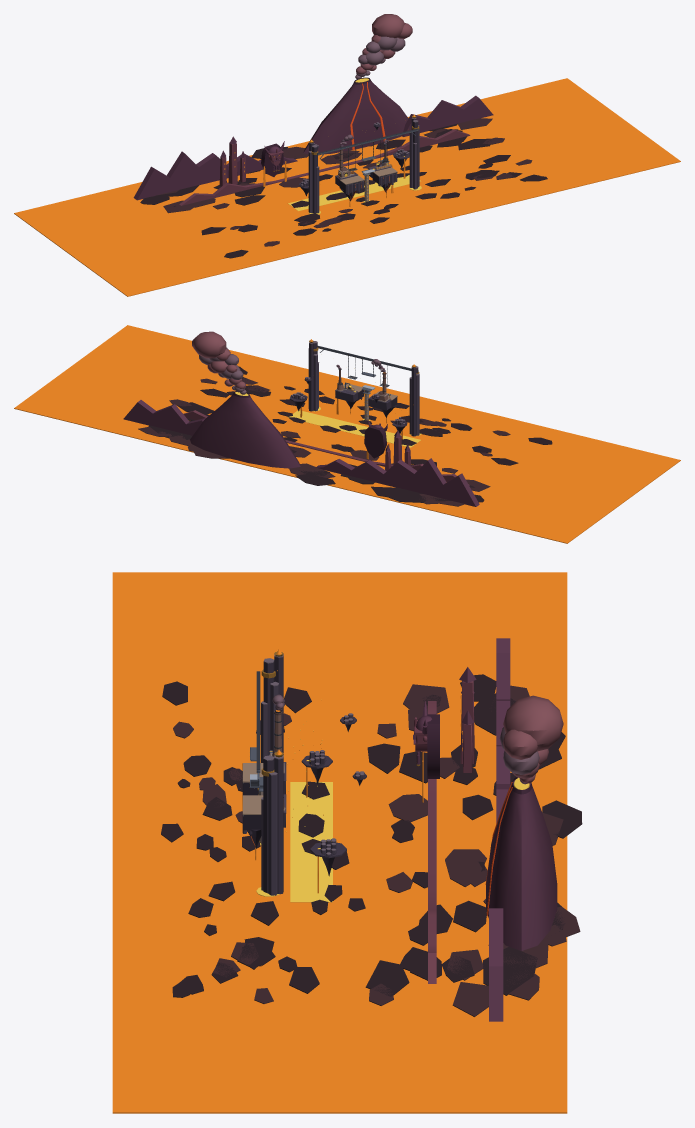
File: VolcanicForge.fbx
3 views of the same model, one above another, from view 1: azimuth 30°, elevation 25°; view 2: azimuth 150°, elevation 25°; view 3: azimuth 270°, elevation 25° (orthographic). The views are drawn at different scales.
Visible parts, largest first — view 1: GlowSea, SceneryFar, SceneryNear, Stage, GlowFar; view 2: GlowSea, SceneryFar, SceneryNear, Stage; view 3: GlowSea, SceneryFar, SceneryNear, Stage.
Boxes of the visible parts, x1,y1,x2,y2 form: GlowSea: (14, 78, 680, 296); SceneryFar: (133, 14, 547, 258); SceneryNear: (299, 116, 419, 213); Stage: (335, 164, 397, 201); GlowFar: (224, 78, 385, 186); GlowSea: (14, 325, 680, 543); SceneryFar: (123, 331, 552, 506); SceneryNear: (289, 340, 419, 436); Stage: (335, 383, 397, 417); GlowSea: (112, 572, 567, 1113); SceneryFar: (161, 638, 582, 1021); SceneryNear: (256, 652, 366, 895); Stage: (242, 762, 286, 848).
Bounding box in the file's own units: 900 × 182 × 331.
Materials: 1 (1 with a texture image).
